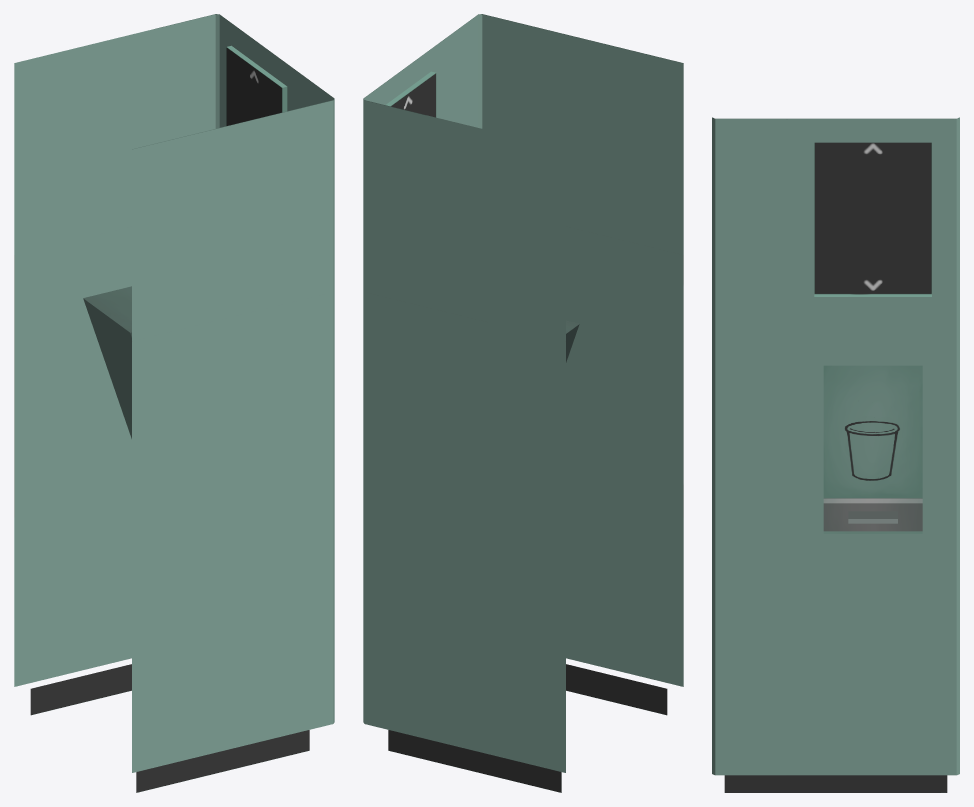
The model's file is drinkMachineClosed.gltf.
3 views of the same model, side by side, from view 1: azimuth 30°, elevation 25°; view 2: azimuth 150°, elevation 25°; view 3: azimuth 270°, elevation 25° (orthographic). The views are drawn at different scales.
Visible parts, largest first — view 1: Cube.007; view 2: Cube.007; view 3: Cube.007.
Boxes of the visible parts, x1,y1,x2,y2 form: Cube.007: [14, 14, 334, 792]; Cube.007: [363, 14, 683, 792]; Cube.007: [712, 117, 959, 792].
Bounding box in the file's own units: 2 × 6.1 × 2.
